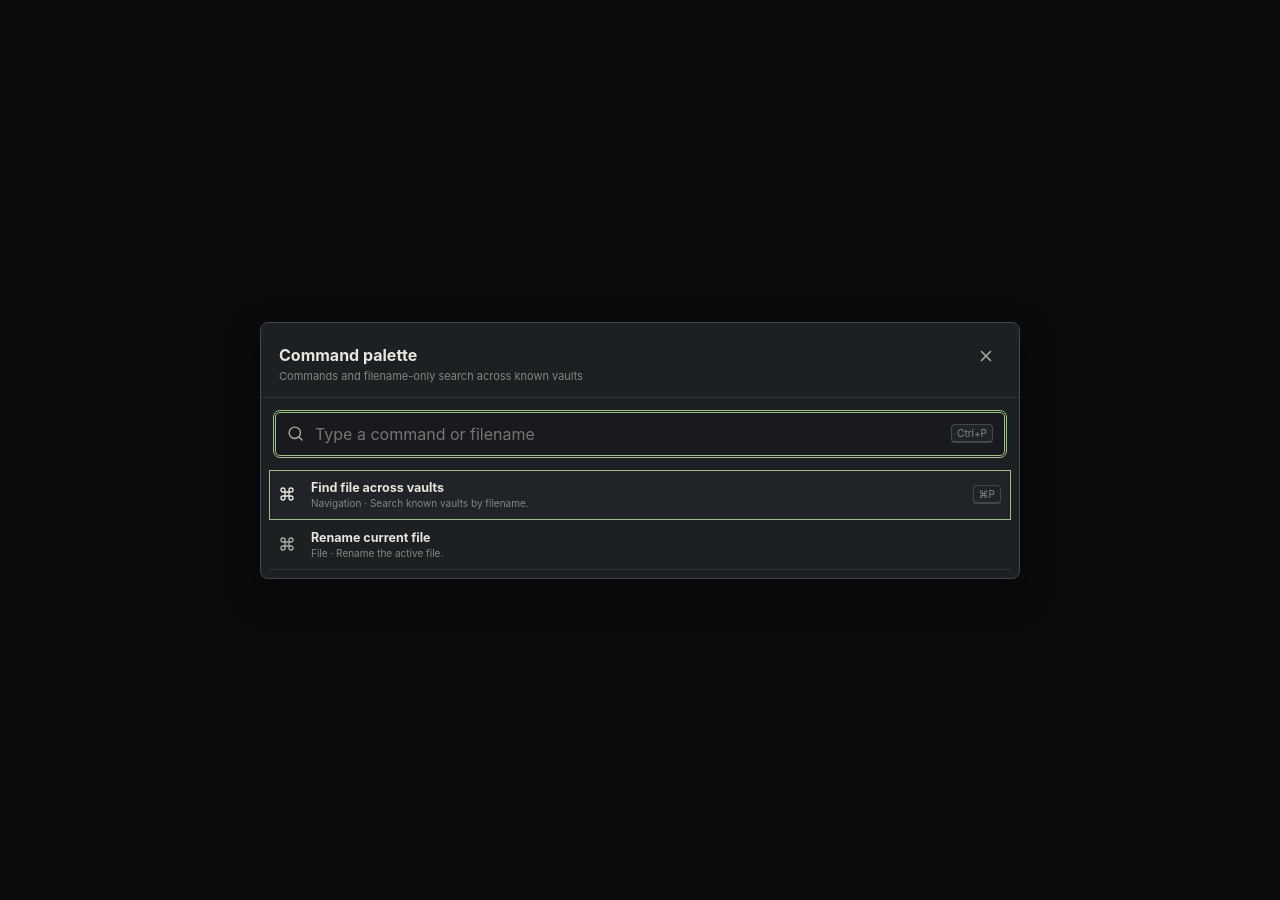
Test: CommandPalette › does not match folder paths when the filename does not match
The width and height of the screenshot is (1280, 900).
Type "projects" into the dropdown named "Search commands or filenames across vaults" at x=628, y=434, box top-left (313, 422), bottom-right (942, 444)
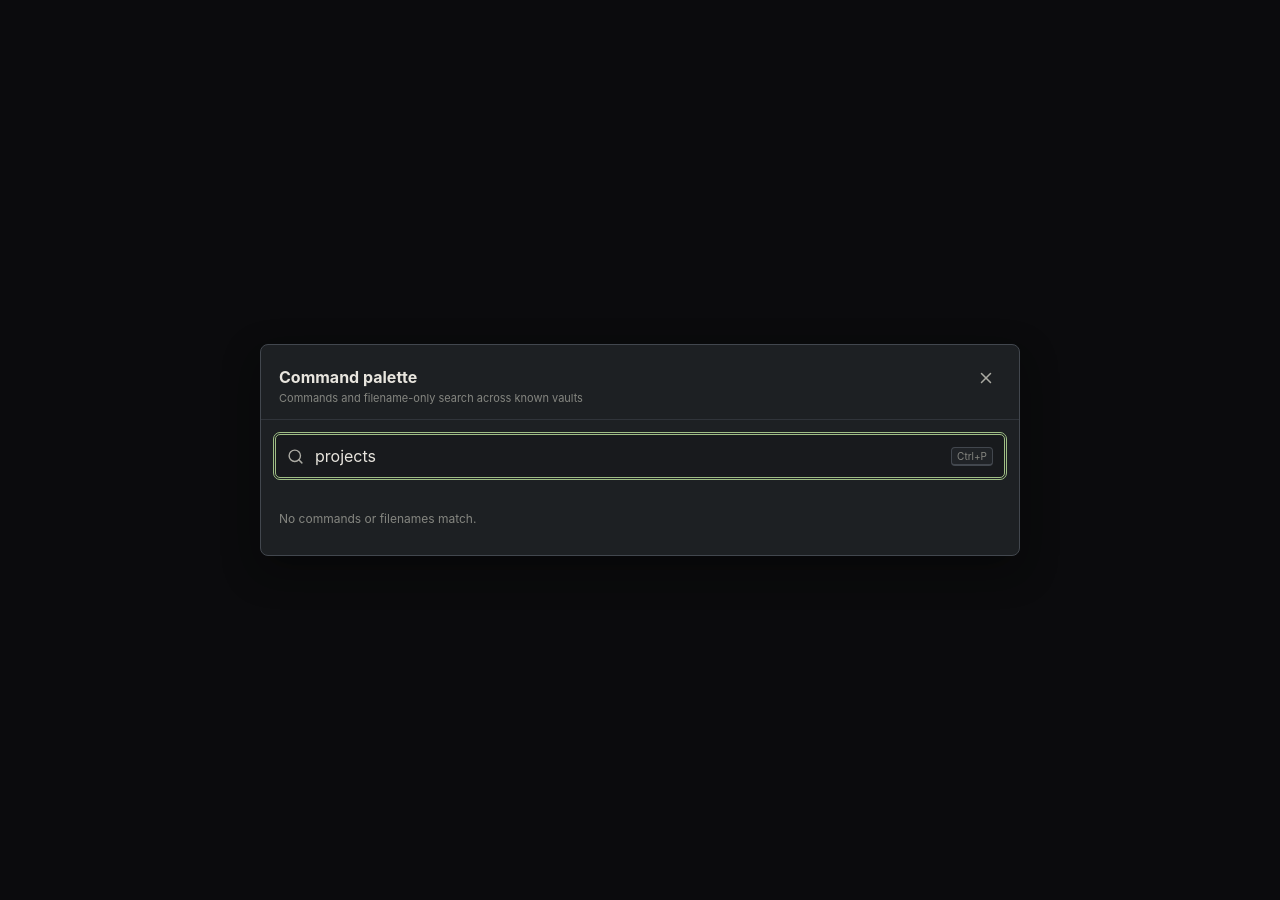
Check: the option is gone
